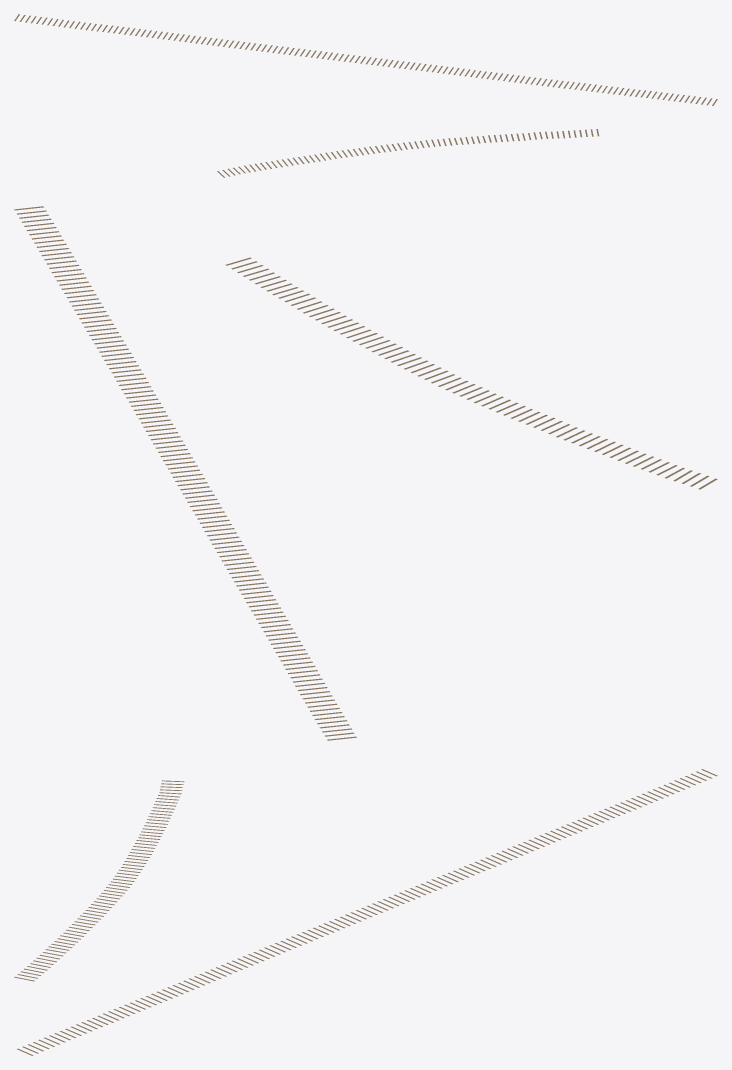
File: c_1625_17827_rail_sleeper.glb
3 renders of one model, top to bottom at view 1: azimuth 30°, elevation 25°; view 2: azimuth 150°, elevation 25°; view 3: azimuth 270°, elevation 25°, orthographic. The views are drawn at different scales.
Parts seen in each view (by area): view 1: geometry_0; view 2: geometry_0; view 3: geometry_0.
Boxes of the visible parts, left/top/right/bottom form: geometry_0: left=14, top=14, right=717, bottom=177; geometry_0: left=14, top=206, right=717, bottom=740; geometry_0: left=14, top=769, right=717, bottom=1055.
Bounding box in the file's own units: 72.44 × 1.06 × 75.2.
